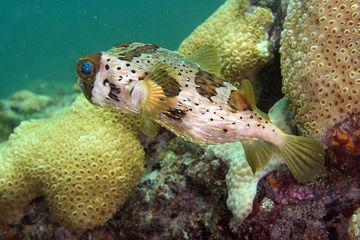Diodon_holocanthus: (67, 30, 341, 224)
